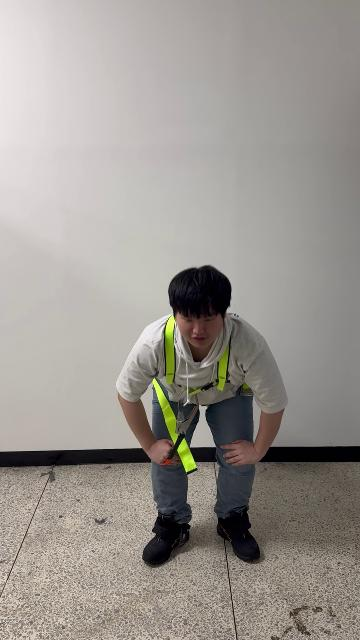helmet_not_worn: (168, 264, 233, 322)
shoe_worn: (142, 513, 190, 565), (216, 510, 259, 562)
vest_worn: (152, 316, 246, 471)
